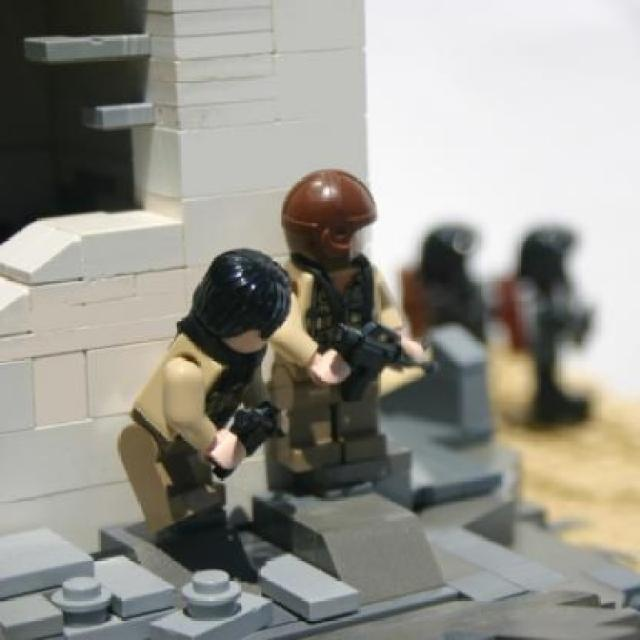obstacle: (122, 229, 310, 580)
